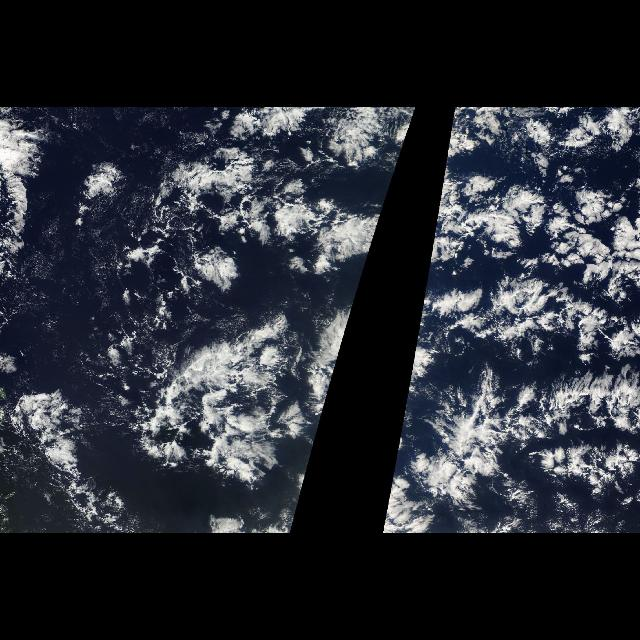Fish: (382, 314, 640, 534), (161, 314, 351, 532)
Flower: (423, 150, 639, 354)
